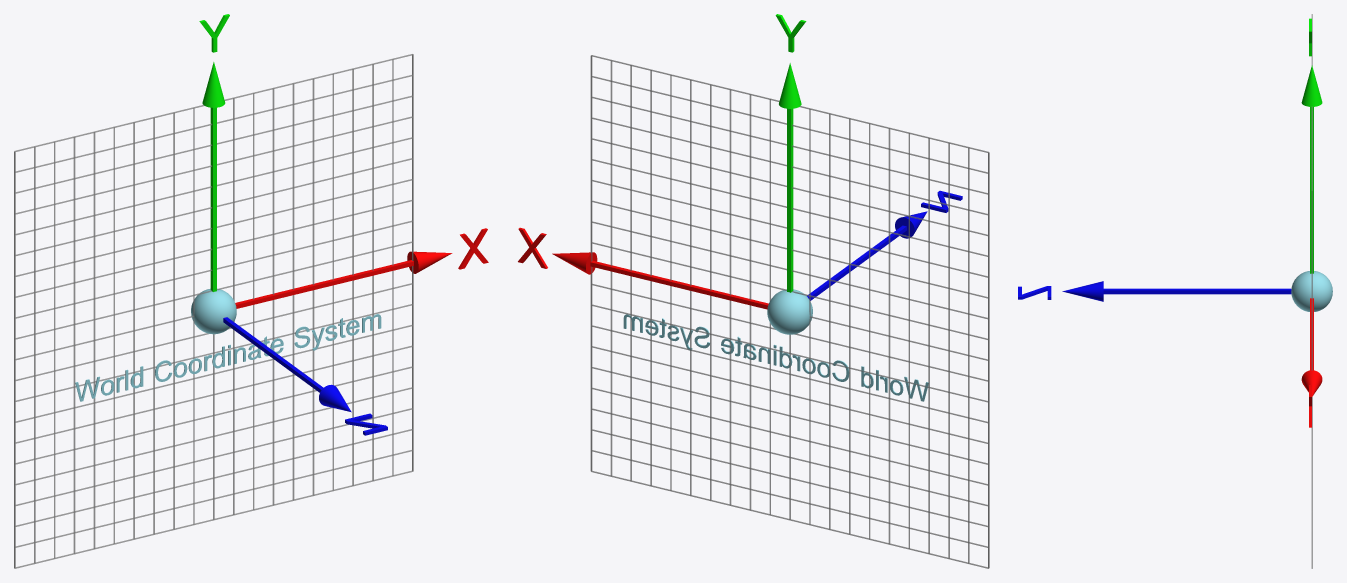
The model's file is World.obj.
3 renders of one model, left to right at view 1: azimuth 30°, elevation 25°; view 2: azimuth 150°, elevation 25°; view 3: azimuth 270°, elevation 25°, orthographic. The views are drawn at different scales.
Visible parts, largest first — view 1: IndexedFaceSet__7, IndexedFaceSet__6, IndexedFaceSet__1, IndexedFaceSet, IndexedFaceSet__40, IndexedFaceSet__39, IndexedFaceSet__50, IndexedFaceSet__49, IndexedFaceSet__51, IndexedFaceSet__23, IndexedFaceSet__25, IndexedFaceSet__24 (+36 smaller); view 2: IndexedFaceSet__7, IndexedFaceSet__6, IndexedFaceSet__1, IndexedFaceSet, IndexedFaceSet__38, IndexedFaceSet__45, IndexedFaceSet__52, IndexedFaceSet__51, IndexedFaceSet__12, IndexedFaceSet__25, IndexedFaceSet__30, IndexedFaceSet__26 (+35 smaller); view 3: IndexedFaceSet__6, IndexedFaceSet__2, IndexedFaceSet__1, IndexedFaceSet__44, IndexedFaceSet__4, IndexedFaceSet__5, IndexedFaceSet__12.
Boxes of the visible parts, x1=… form: IndexedFaceSet__7: x1=75, y1=314, x2=381, y2=401; IndexedFaceSet__6: x1=191, y1=288, x2=236, y2=334; IndexedFaceSet__1: x1=210, y1=107, x2=216, y2=291; IndexedFaceSet: x1=235, y1=260, x2=413, y2=308; IndexedFaceSet__40: x1=73, y1=137, x2=75, y2=553; IndexedFaceSet__39: x1=93, y1=132, x2=95, y2=548; IndexedFaceSet__50: x1=292, y1=83, x2=294, y2=500; IndexedFaceSet__49: x1=312, y1=79, x2=314, y2=495; IndexedFaceSet__51: x1=272, y1=88, x2=274, y2=505; IndexedFaceSet__23: x1=15, y1=470, x2=413, y2=568; IndexedFaceSet__25: x1=15, y1=429, x2=412, y2=526; IndexedFaceSet__24: x1=15, y1=450, x2=412, y2=547; IndexedFaceSet__7: x1=623, y1=314, x2=928, y2=401; IndexedFaceSet__6: x1=767, y1=289, x2=812, y2=334; IndexedFaceSet__1: x1=787, y1=108, x2=793, y2=292; IndexedFaceSet: x1=590, y1=260, x2=768, y2=309; IndexedFaceSet__38: x1=888, y1=128, x2=890, y2=544; IndexedFaceSet__45: x1=610, y1=60, x2=612, y2=476; IndexedFaceSet__52: x1=749, y1=94, x2=751, y2=510; IndexedFaceSet__51: x1=729, y1=89, x2=731, y2=505; IndexedFaceSet__12: x1=590, y1=55, x2=592, y2=471; IndexedFaceSet__25: x1=591, y1=429, x2=988, y2=527; IndexedFaceSet__30: x1=591, y1=325, x2=988, y2=423; IndexedFaceSet__26: x1=591, y1=408, x2=988, y2=506; IndexedFaceSet__6: x1=1291, y1=271, x2=1332, y2=311; IndexedFaceSet__2: x1=1103, y1=288, x2=1291, y2=294; IndexedFaceSet__1: x1=1310, y1=107, x2=1313, y2=273; IndexedFaceSet__44: x1=1311, y1=190, x2=1312, y2=568; IndexedFaceSet__4: x1=1301, y1=65, x2=1322, y2=106; IndexedFaceSet__5: x1=1062, y1=281, x2=1103, y2=301; IndexedFaceSet__12: x1=1311, y1=191, x2=1312, y2=567.
Bounding box in the file's own units: 238 × 241 × 151.
